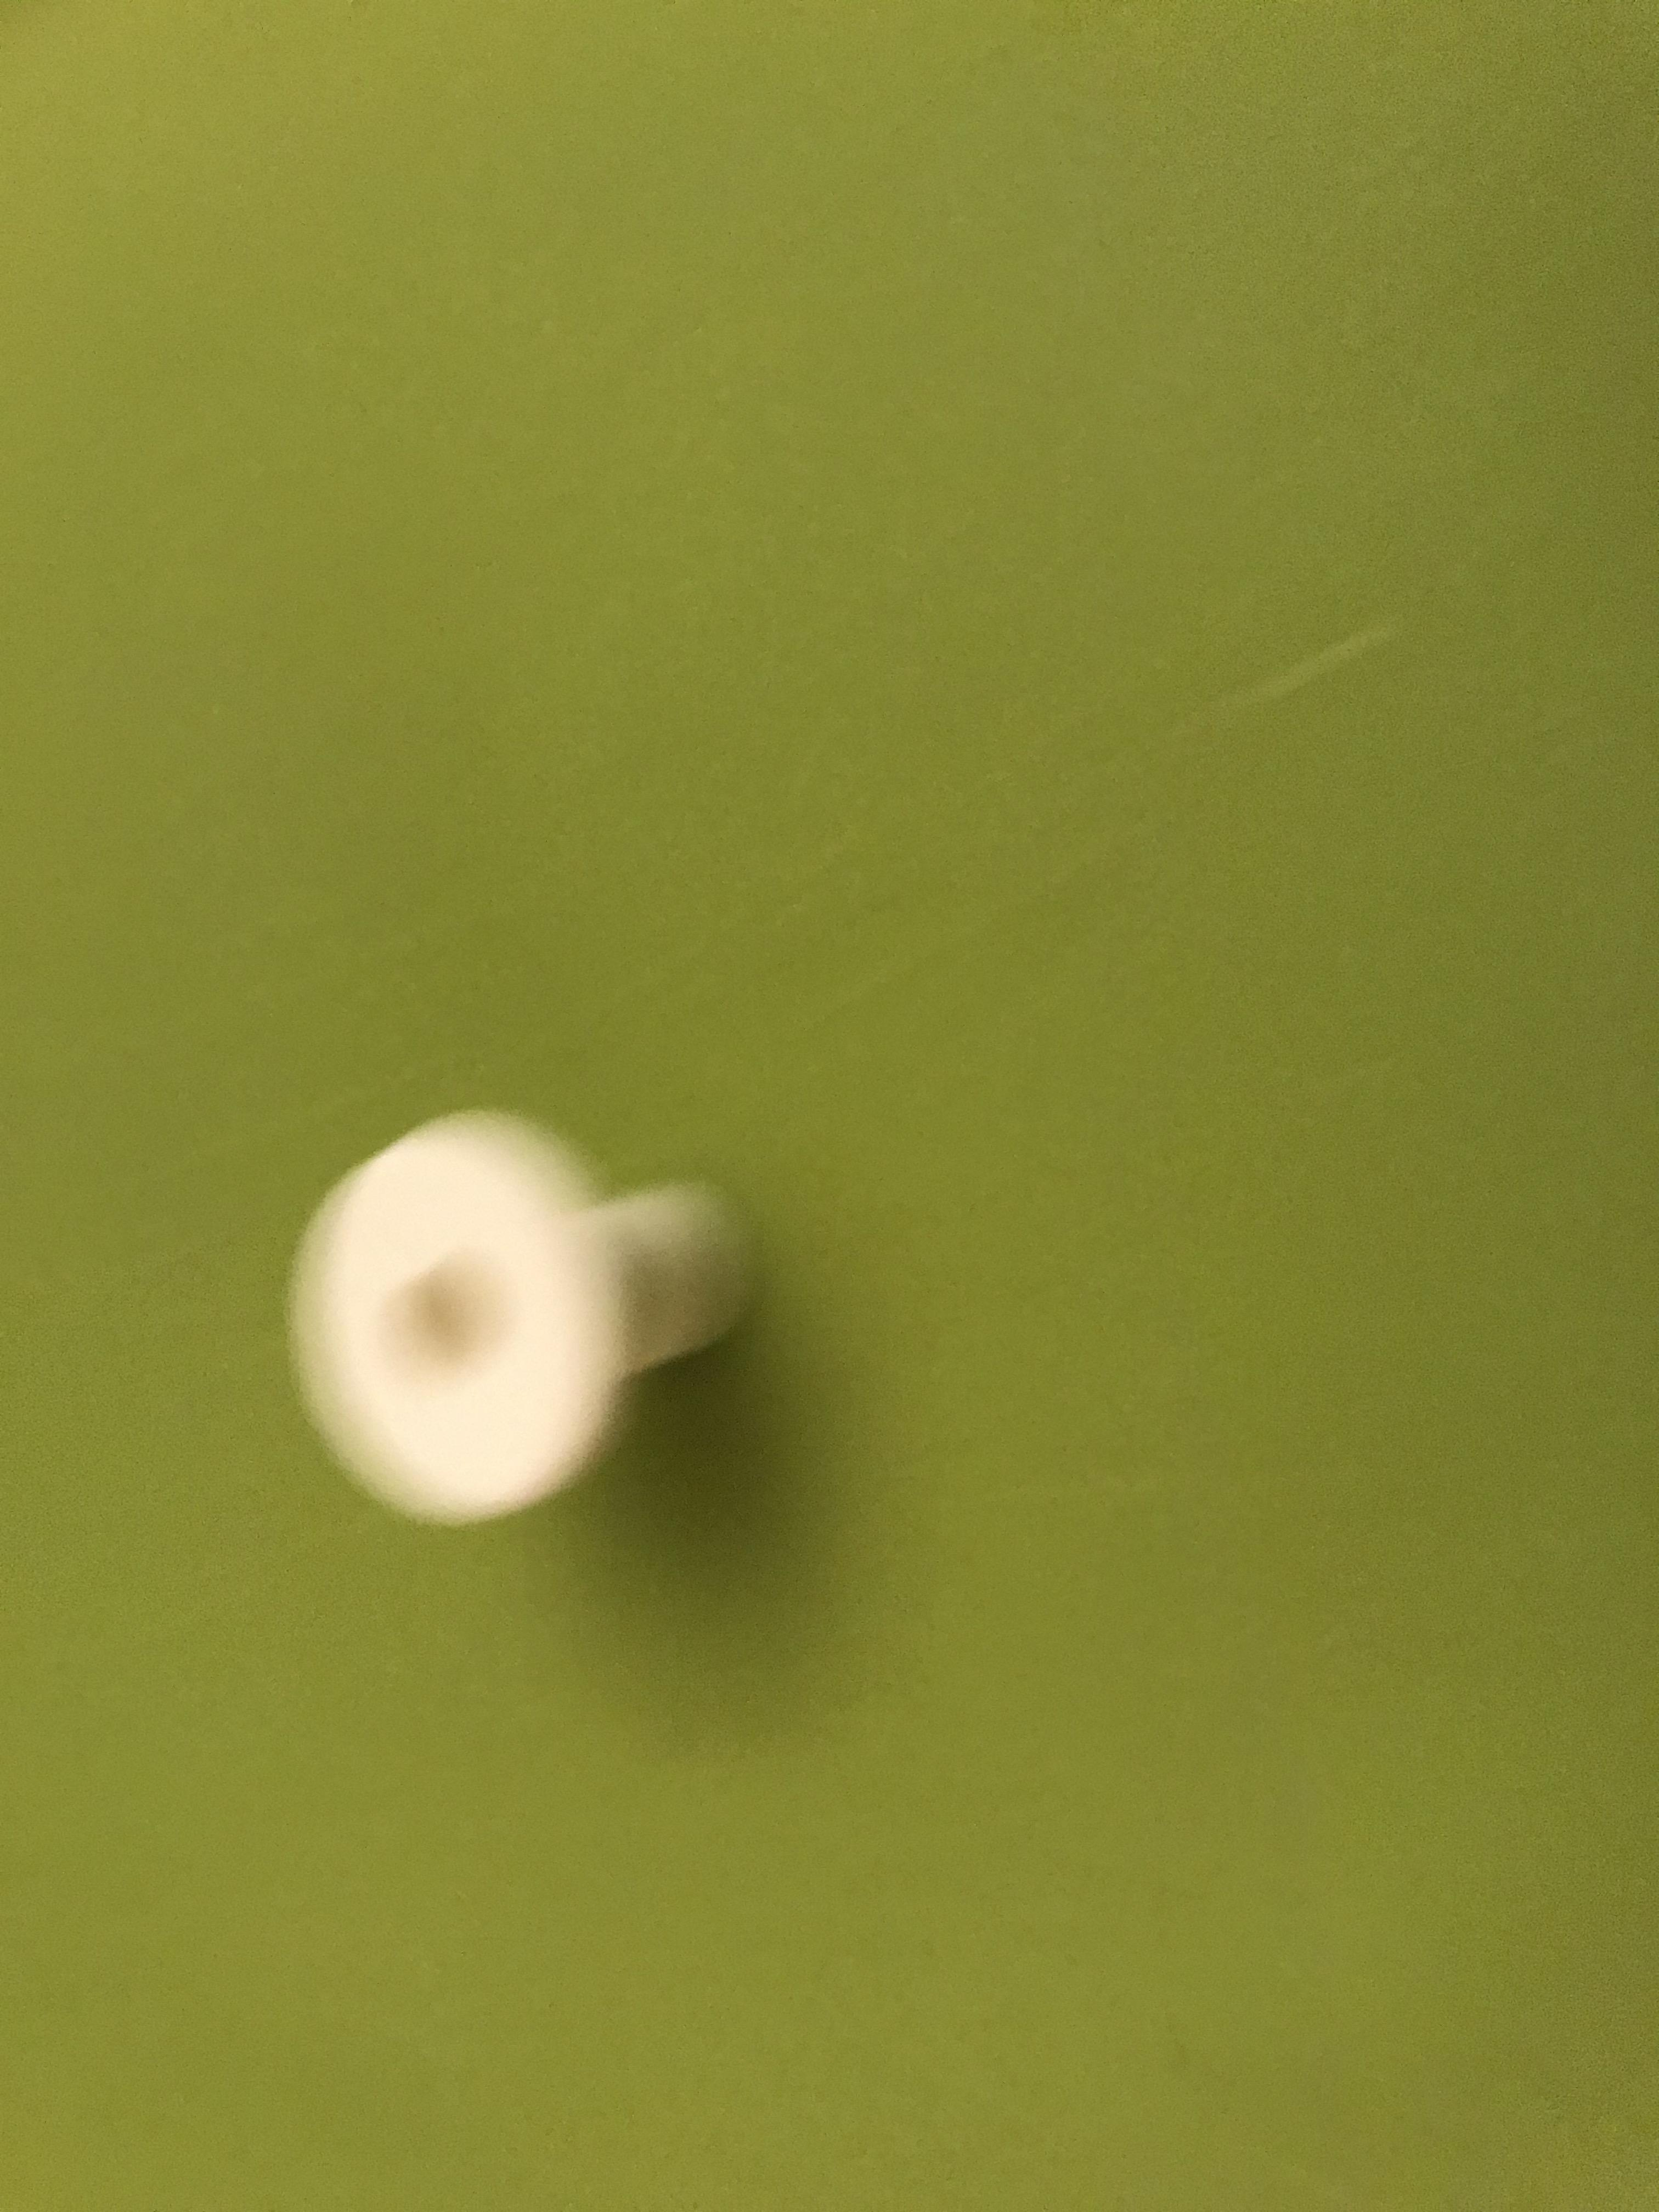White Cone: (253, 1089, 779, 1536)
